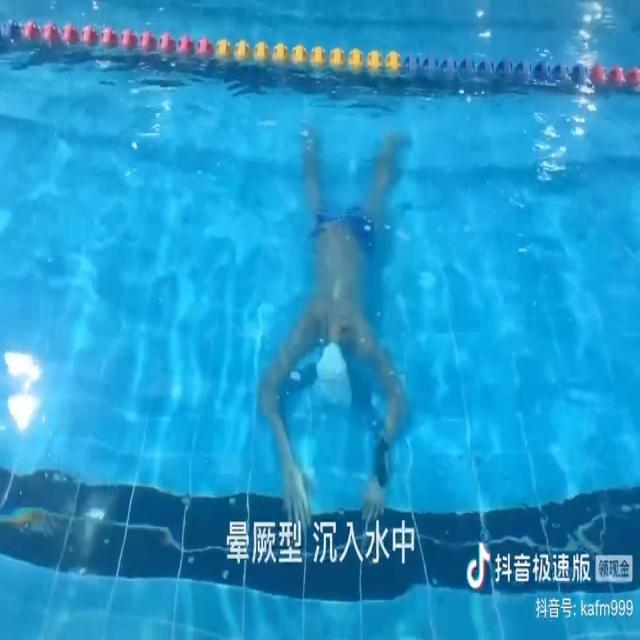Drowning: (257, 125, 417, 531)
